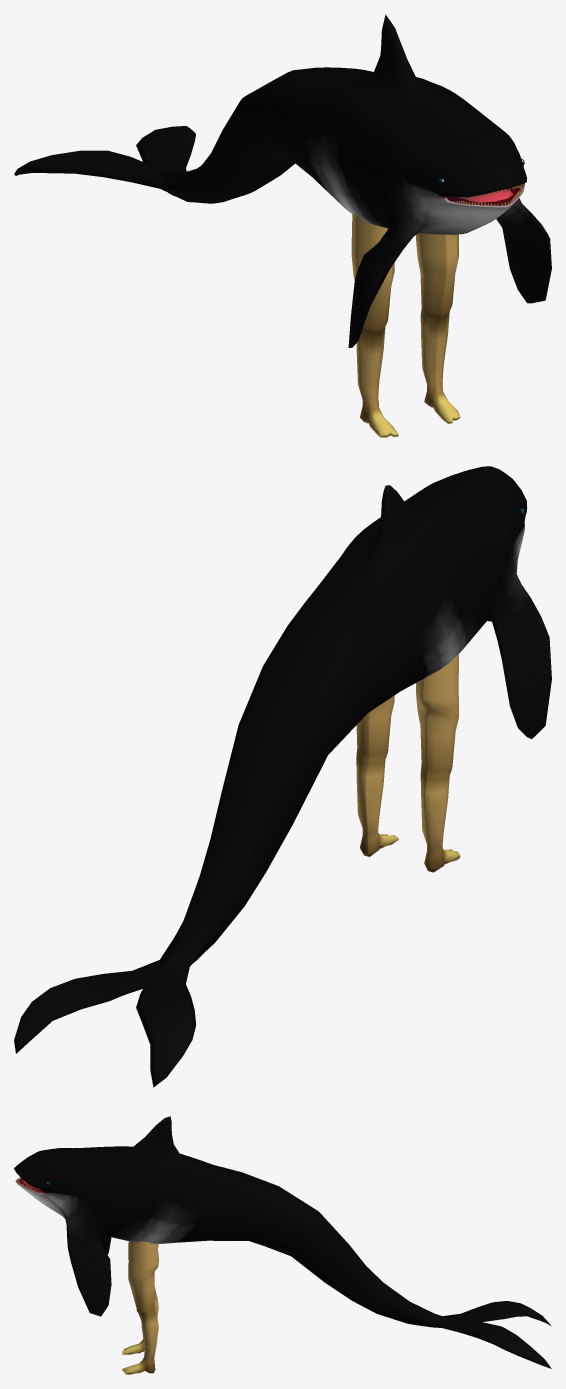
The model's file is WHALEBASE.fbx.
The picture shows the model from 3 angles, top to bottom: view 1: azimuth 30°, elevation 25°; view 2: azimuth 150°, elevation 25°; view 3: azimuth 270°, elevation 25°; orthographic projection. The views are drawn at different scales.
Parts seen in each view (by area): view 1: pCube5, LegL, LegR; view 2: pCube5, LegR, LegL; view 3: pCube5, LegL, LegR.
Part boxes in pixels (x1=…): pCube5: x1=14, y1=14, x2=551, y2=347; LegL: x1=416, y1=233, x2=460, y2=423; LegR: x1=351, y1=213, x2=398, y2=437; pCube5: x1=14, y1=466, x2=551, y2=1087; LegR: x1=416, y1=654, x2=460, y2=872; LegL: x1=356, y1=695, x2=398, y2=856; pCube5: x1=14, y1=1116, x2=551, y2=1368; LegL: x1=122, y1=1241, x2=158, y2=1374; LegR: x1=122, y1=1241, x2=158, y2=1354.
Size of the model in its own units: 1.1 by 2.11 by 4.19.
